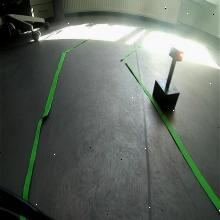red: (170, 46, 184, 62)
